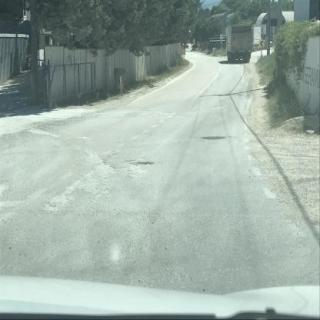pothole: (200, 136, 227, 140), (129, 162, 155, 166)
